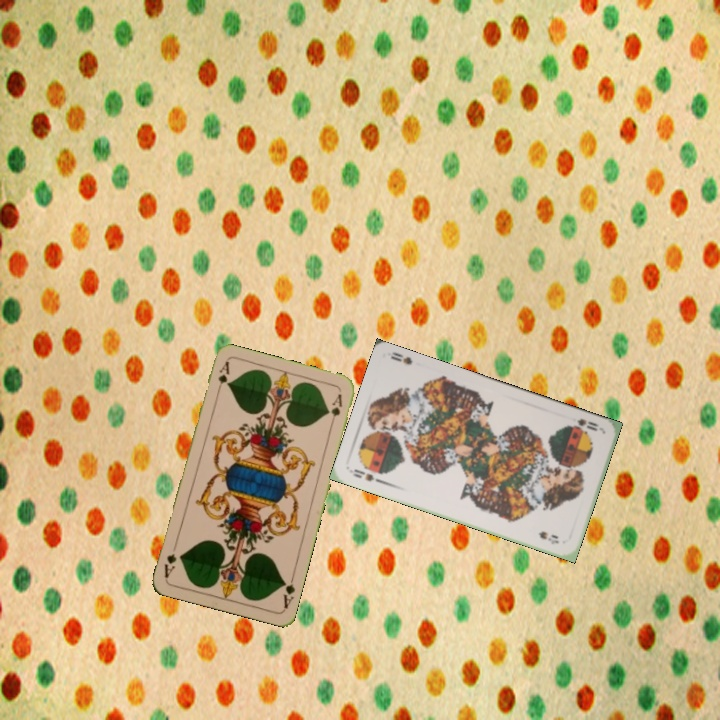GA: (278, 571, 298, 611), (212, 358, 232, 398)
SO: (348, 465, 386, 486), (563, 415, 601, 435)
